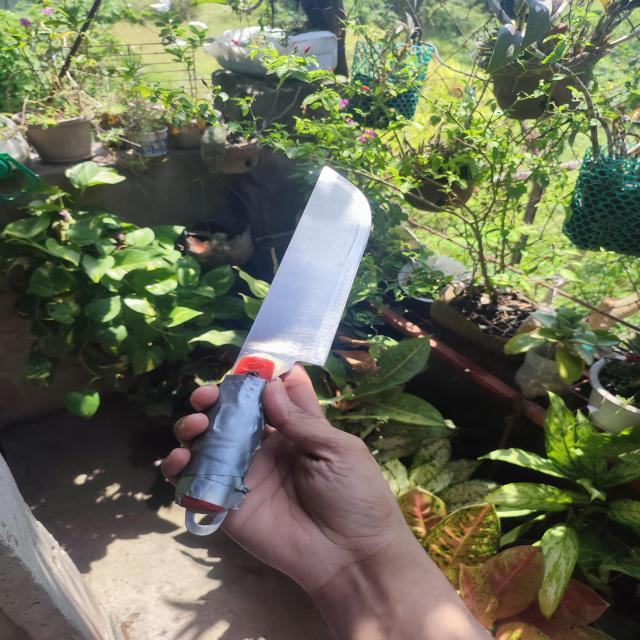knife: (179, 166, 372, 532)
